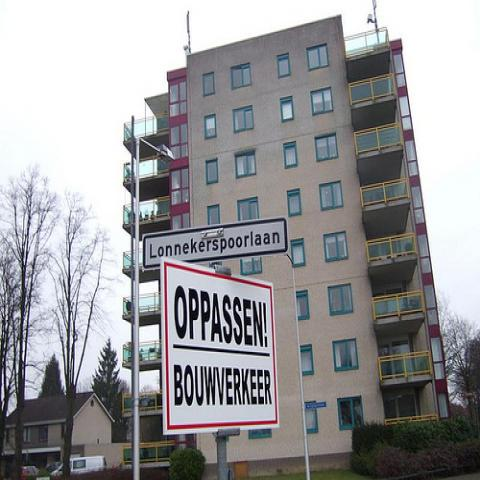car: (21, 463, 39, 479), (40, 462, 61, 472)
truck: (51, 456, 106, 476)
